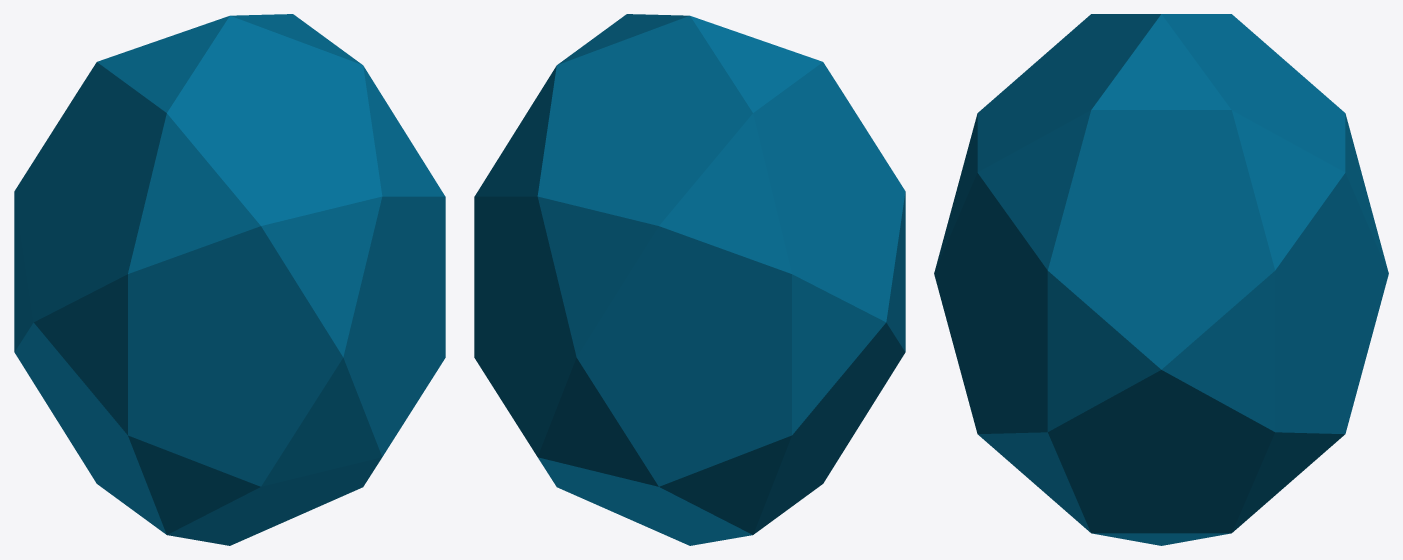
The model's file is OB_GemStone.FBX.
3 renders of one model, left to right at view 1: azimuth 30°, elevation 25°; view 2: azimuth 150°, elevation 25°; view 3: azimuth 270°, elevation 25°, orthographic.
Visible parts, largest first — view 1: Hedra001; view 2: Hedra001; view 3: Hedra001.
Boxes of the visible parts, x1=… form: Hedra001: x1=14, y1=14, x2=445, y2=545; Hedra001: x1=474, y1=14, x2=905, y2=545; Hedra001: x1=934, y1=14, x2=1388, y2=545.
Bounding box in the file's own units: 63.28 × 81.66 × 63.28.
